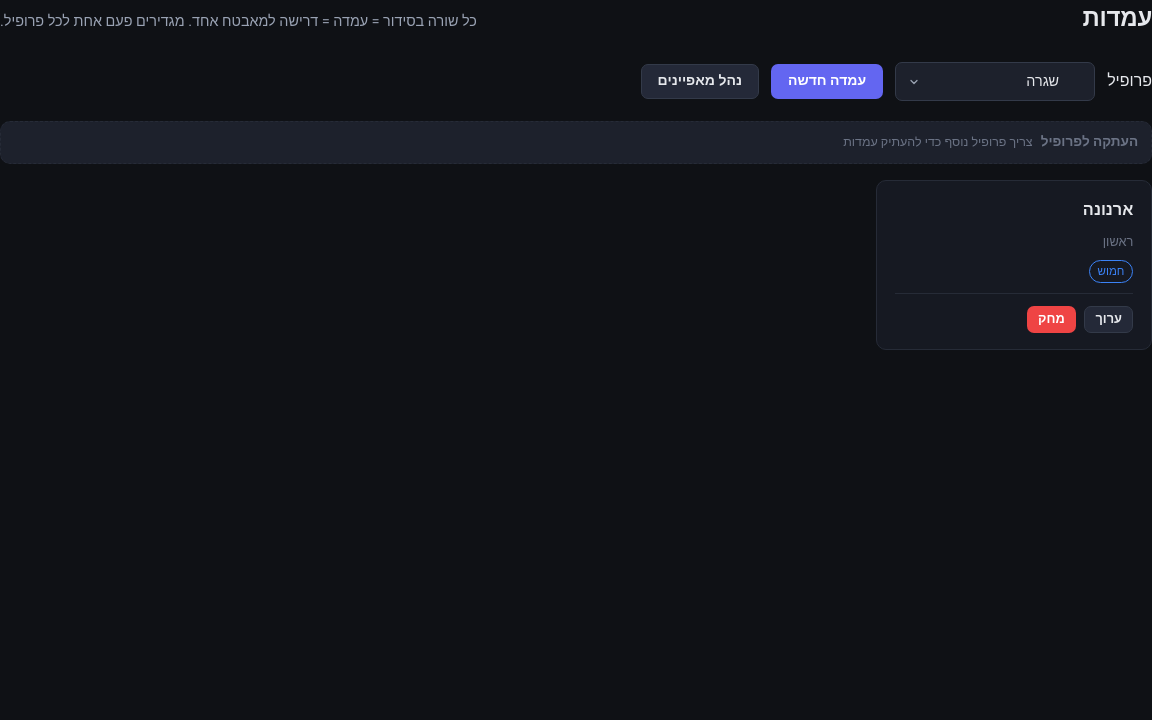
Scenario: PositionsPage › hides the count field until "event" is ticked
Expected: the text "ארנונה" is shown, left=1083, top=198, right=1133, bottom=222
Click the button "עמדה חדשה". click: {"x": 827, "y": 82}
box: left=771, top=64, right=883, bottom=99
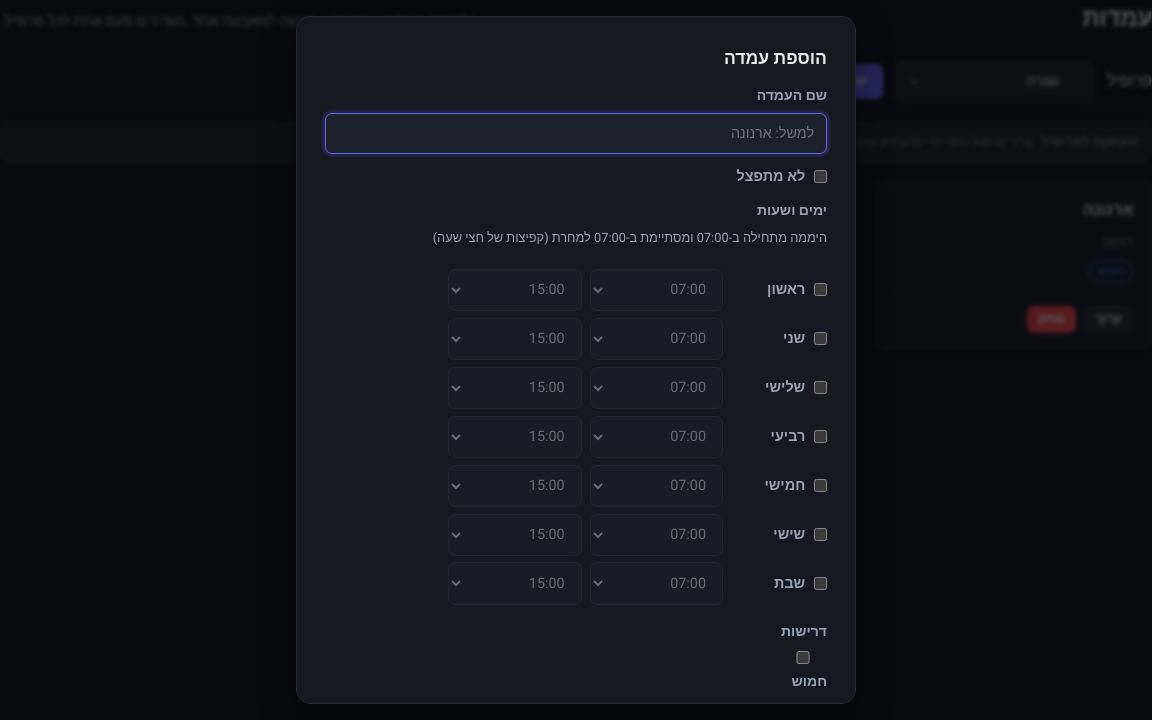
Expected: the field labelled "מספר משתתפים קבוע" is not shown
Click the checkbox labelled "לא מתפצל". click: {"x": 820, "y": 177}
box: left=814, top=170, right=827, bottom=183
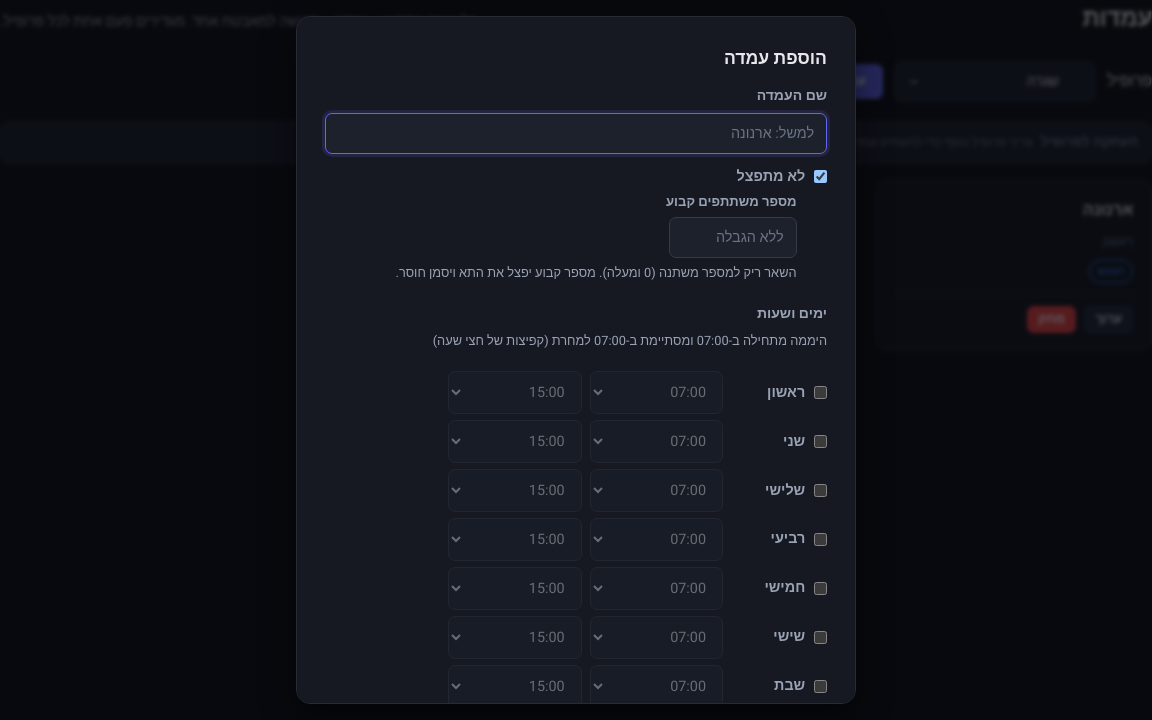
Now the number field labelled "מספר משתתפים קבוע" is shown, box left=669, top=217, right=797, bottom=258
